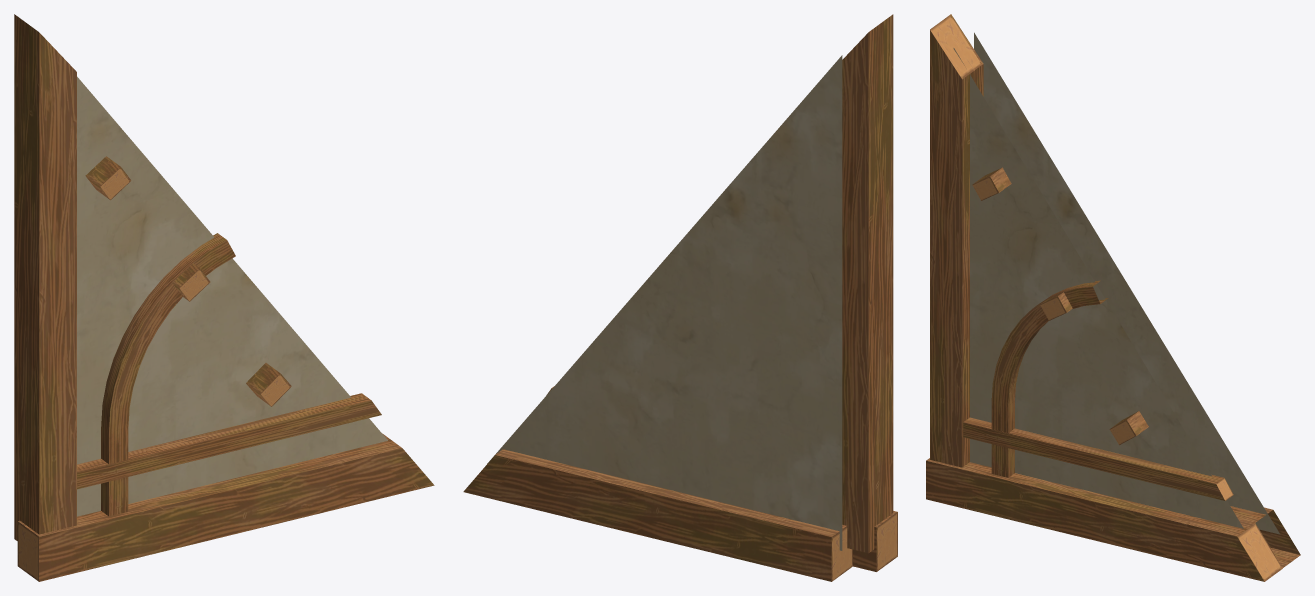
Rendered from Roof_Front_Brick4_Half_R.glb.
The picture shows the model from 3 angles, left to right: view 1: azimuth 30°, elevation 25°; view 2: azimuth 150°, elevation 25°; view 3: azimuth 330°, elevation 25°; orthographic projection. The views are drawn at different scales.
Visible parts, largest first — view 1: Roof_Front_Brick4_Half_R; view 2: Roof_Front_Brick4_Half_R; view 3: Roof_Front_Brick4_Half_R.
Part boxes in pixels (x1,y1,x2,y2): Roof_Front_Brick4_Half_R: (14,14,434,581); Roof_Front_Brick4_Half_R: (463,14,897,581); Roof_Front_Brick4_Half_R: (926,14,1300,581).
Size of the model in its own units: 2.42 by 3.2 by 0.4894.
Materials: 2 (2 with a texture image).
